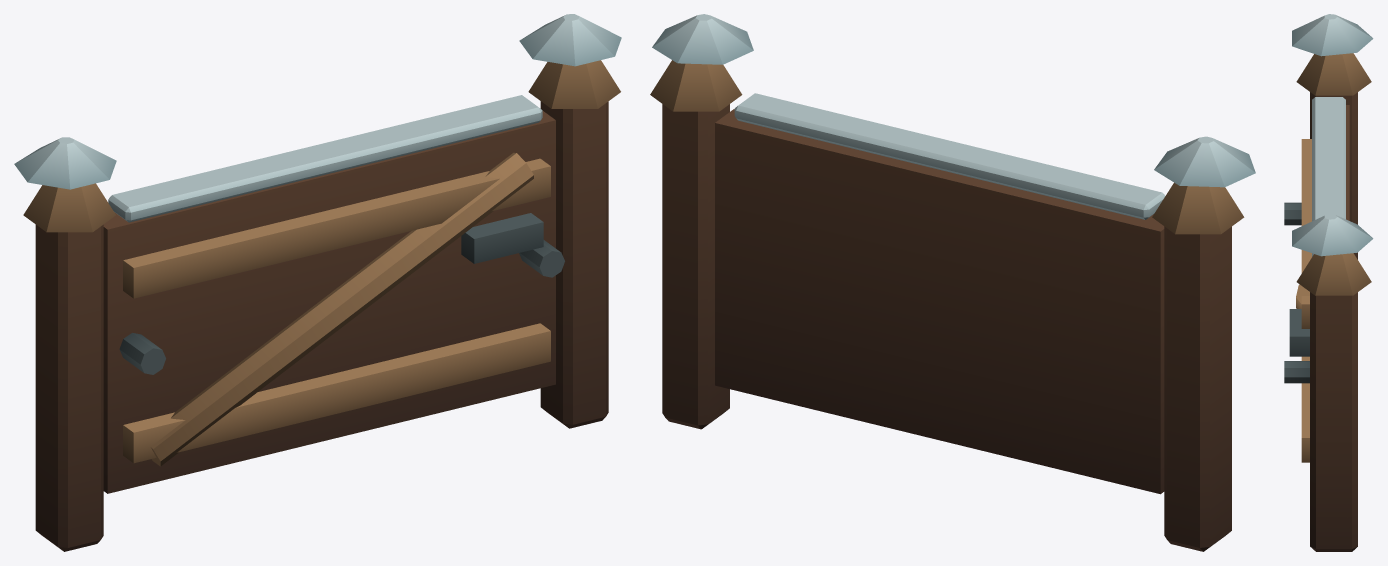
The model's file is fence-gate.glb.
3 renders of one model, left to right at view 1: azimuth 30°, elevation 25°; view 2: azimuth 150°, elevation 25°; view 3: azimuth 270°, elevation 25°, orthographic. The views are drawn at different scales.
Visible parts, largest first — view 1: WorldFenceGateR13_R13 Shared Fence Weathered Wood_Batch, WorldFenceGateR13_R13 Shared Fence Cut Wood_Batch, WorldFenceGateR13_R13 Shared Fence Snow_Batch, WorldFenceGateR13_R13 Shared Fence Iron_Batch; view 2: WorldFenceGateR13_R13 Shared Fence Weathered Wood_Batch, WorldFenceGateR13_R13 Shared Fence Snow_Batch, WorldFenceGateR13_R13 Shared Fence Cut Wood_Batch; view 3: WorldFenceGateR13_R13 Shared Fence Weathered Wood_Batch, WorldFenceGateR13_R13 Shared Fence Snow_Batch, WorldFenceGateR13_R13 Shared Fence Cut Wood_Batch, WorldFenceGateR13_R13 Shared Fence Iron_Batch.
Part boxes in pixels (x1,y1,x2,y2): WorldFenceGateR13_R13 Shared Fence Weathered Wood_Batch: [35, 101, 608, 551]; WorldFenceGateR13_R13 Shared Fence Cut Wood_Batch: [23, 60, 620, 466]; WorldFenceGateR13_R13 Shared Fence Snow_Batch: [14, 14, 621, 222]; WorldFenceGateR13_R13 Shared Fence Iron_Batch: [119, 213, 564, 374]; WorldFenceGateR13_R13 Shared Fence Weathered Wood_Batch: [662, 104, 1231, 551]; WorldFenceGateR13_R13 Shared Fence Snow_Batch: [652, 14, 1255, 219]; WorldFenceGateR13_R13 Shared Fence Cut Wood_Batch: [650, 60, 1244, 234]; WorldFenceGateR13_R13 Shared Fence Weathered Wood_Batch: [1310, 92, 1357, 551]; WorldFenceGateR13_R13 Shared Fence Snow_Batch: [1292, 14, 1373, 256]; WorldFenceGateR13_R13 Shared Fence Cut Wood_Batch: [1296, 53, 1371, 462]; WorldFenceGateR13_R13 Shared Fence Iron_Batch: [1284, 202, 1309, 383].
Size of the model in its own units: 3.25 by 2.1 by 0.52.
